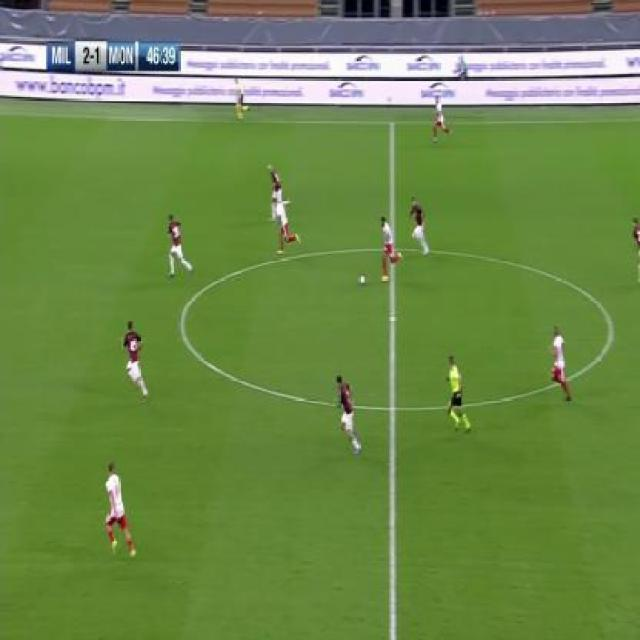ball: (359, 272, 367, 286)
player: (102, 460, 138, 559), (118, 316, 151, 404), (444, 353, 472, 435), (336, 375, 362, 457), (268, 198, 301, 255), (165, 214, 193, 280), (550, 324, 573, 403), (378, 214, 403, 282), (409, 195, 432, 257), (431, 93, 454, 146), (235, 78, 252, 123), (265, 164, 284, 200), (632, 209, 640, 283)
